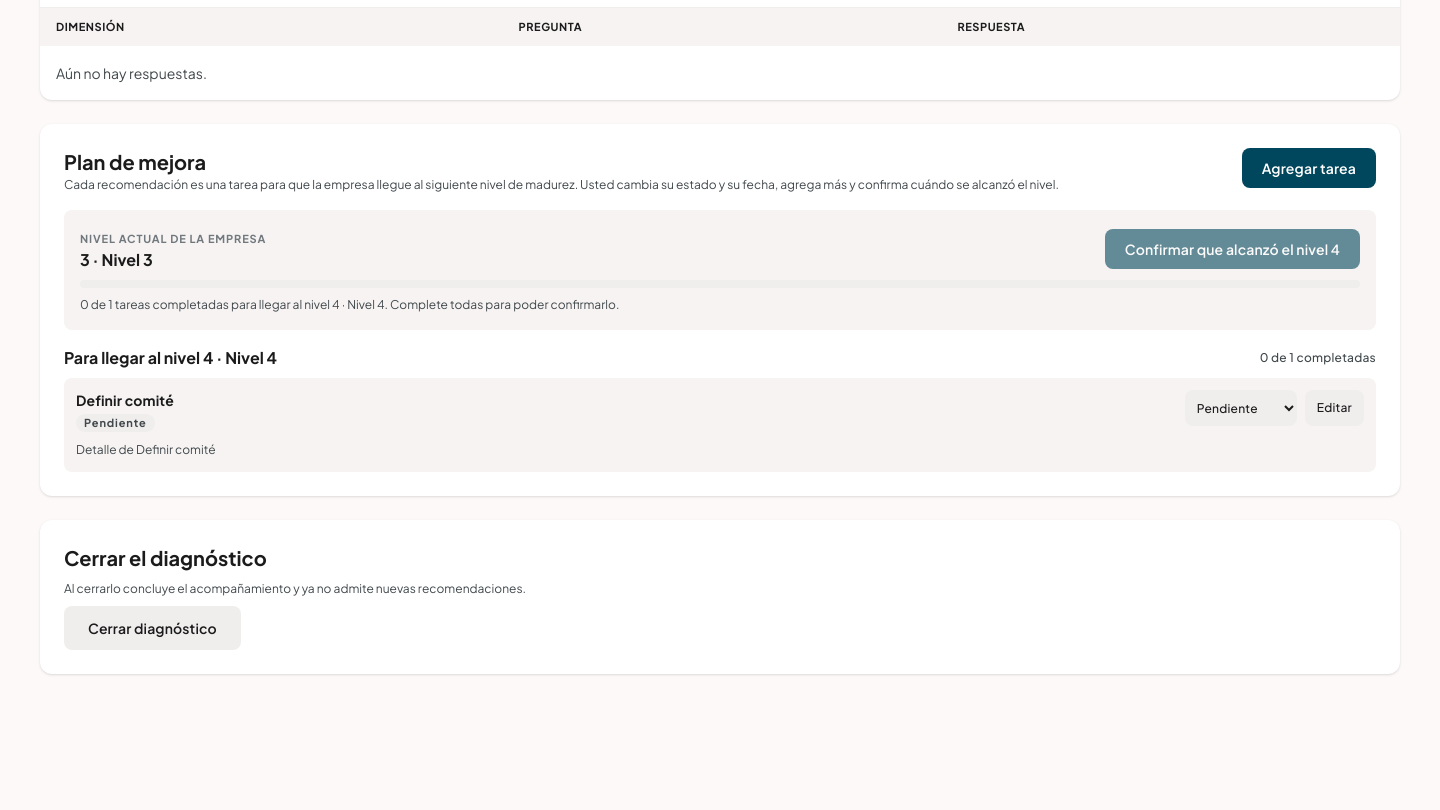
Test: El consultor gestiona el plan de mejora › si el servidor rechaza el cambio, el formulario sigue abierto con el motivo
(page scrolled)
Expected: the text "Definir comité" is shown, [76,390,174,410]
Click the button with aria-label "Editar tarea Definir comité".
click(1334, 408)  # box [1305,390,1364,426]
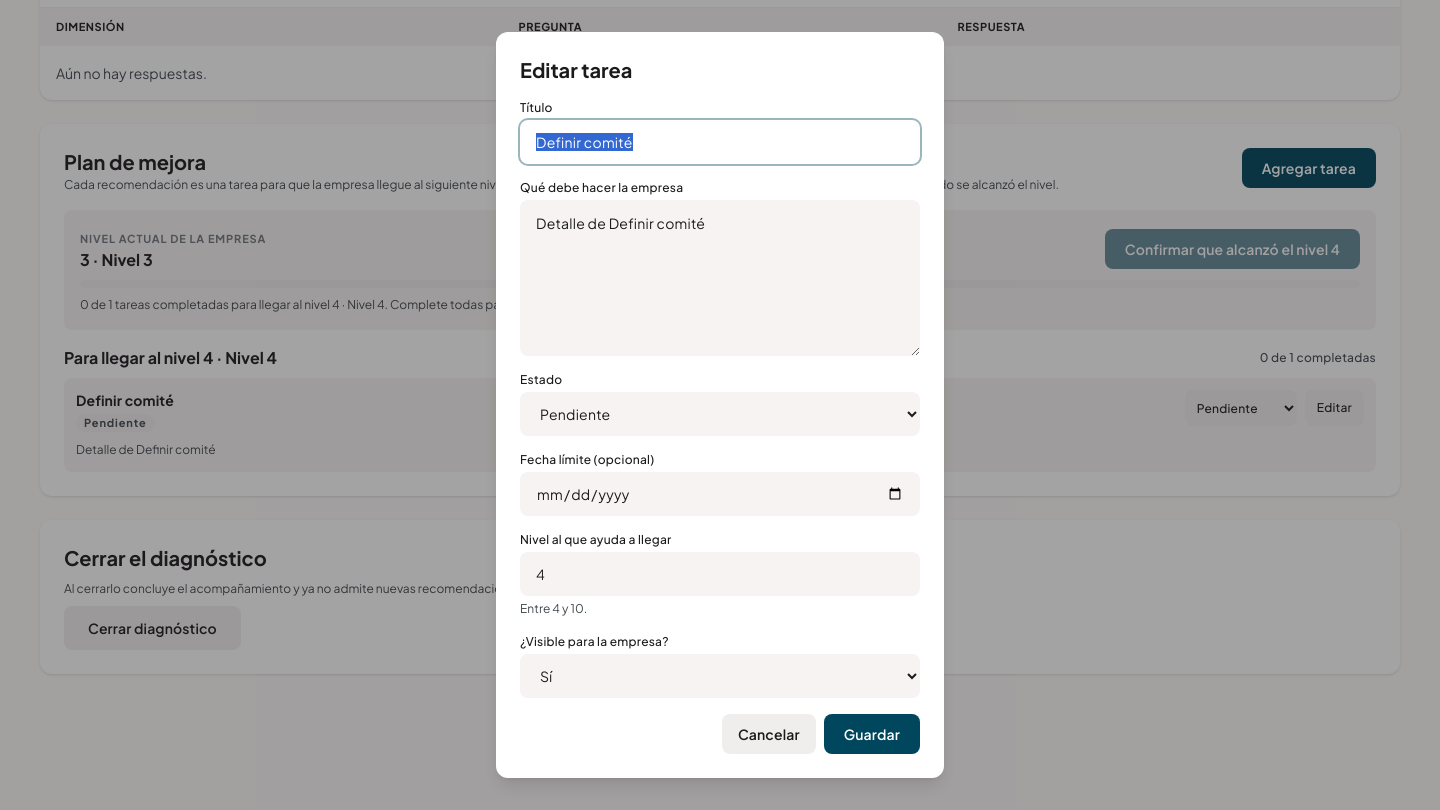
Replace the text in the number field labelled "Nivel al que ayuda a llegar" with "9" at (720, 574), box [520,552,920,596]
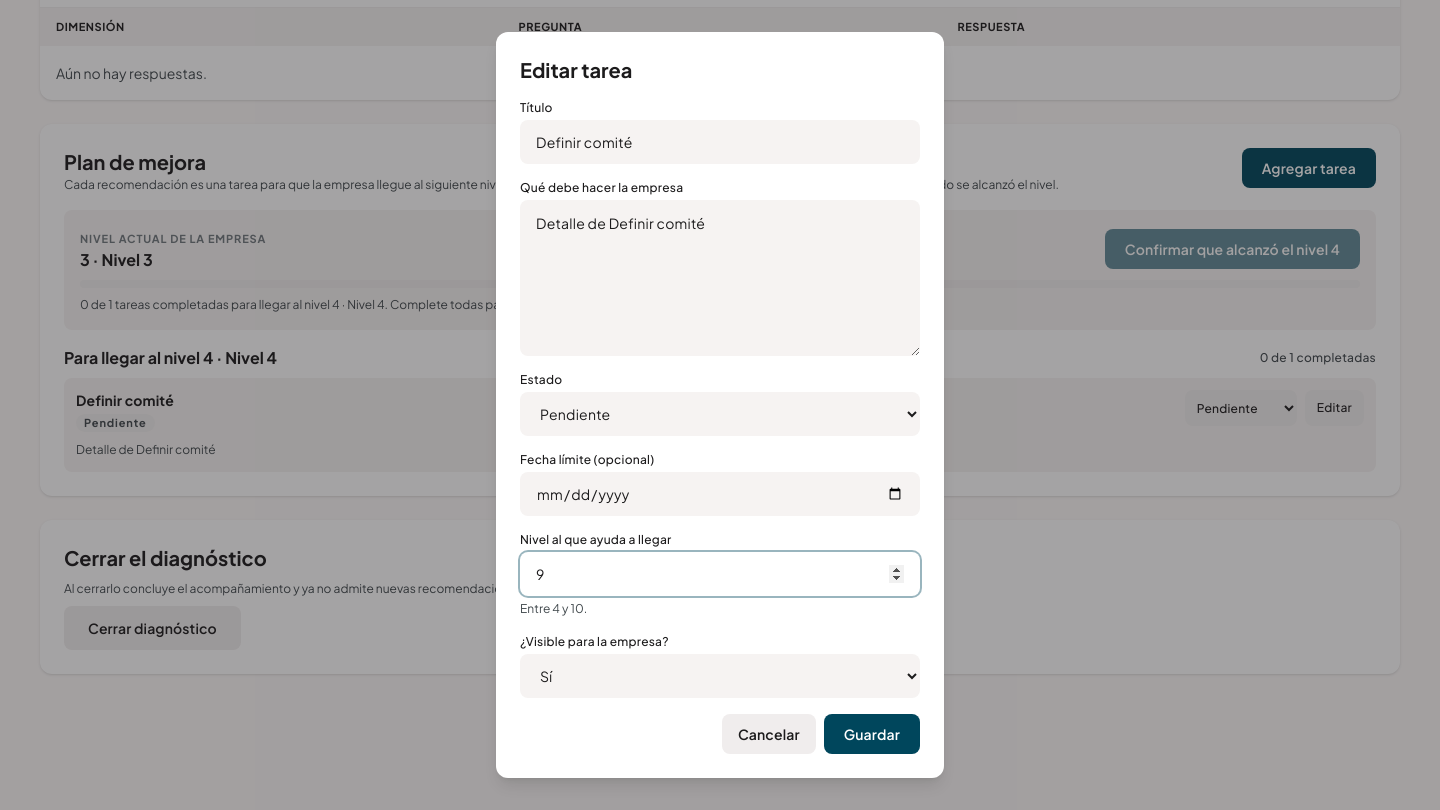
Click the button "Guardar".
click(872, 734)  # box [824,714,920,754]
(page scrolled)
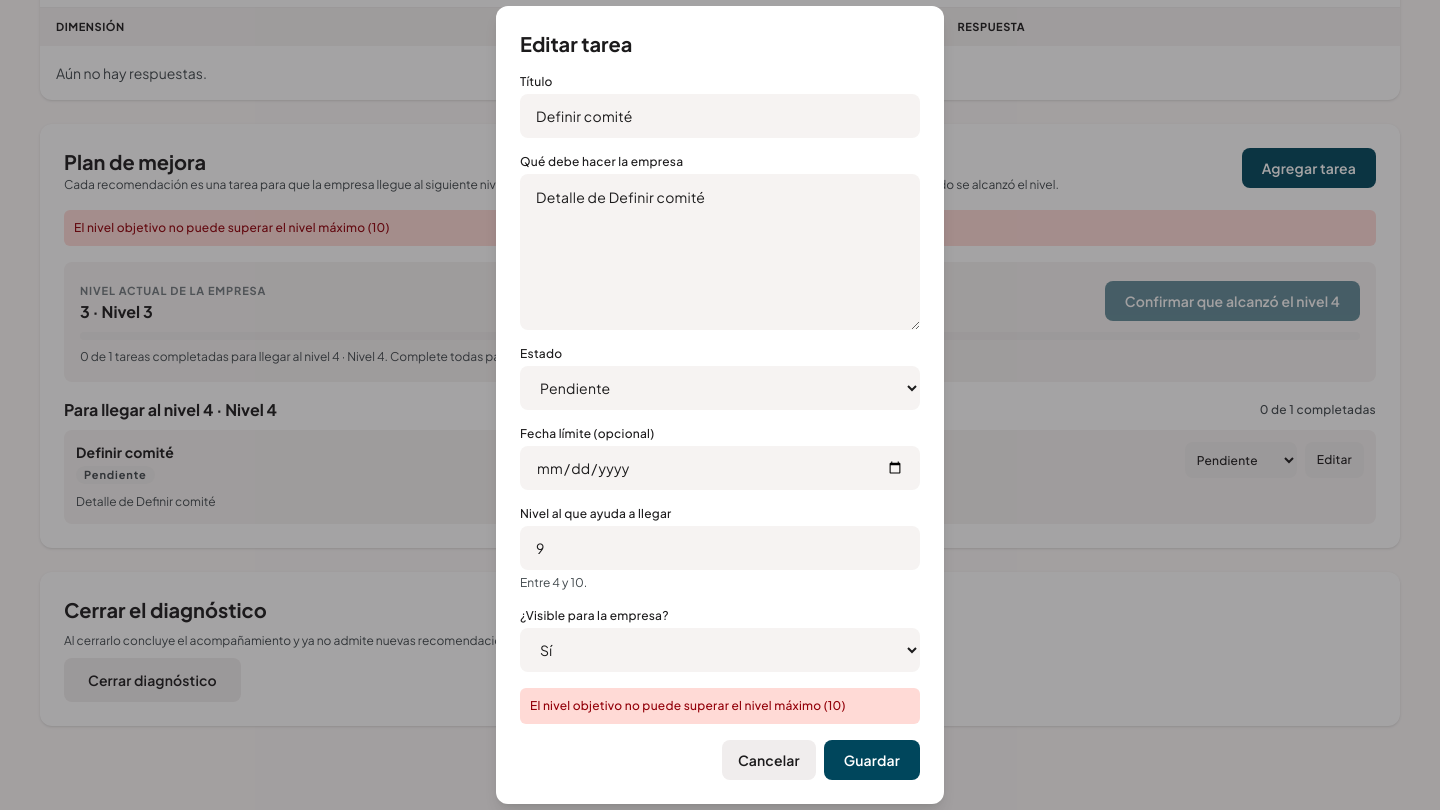
Expected: the dialog is shown, [496,6,944,804]
Expected: the message "El nivel objetivo no puede superar el nivel máximo (10)" below "¿Visible para la empresa?" is shown, [530,698,846,713]
